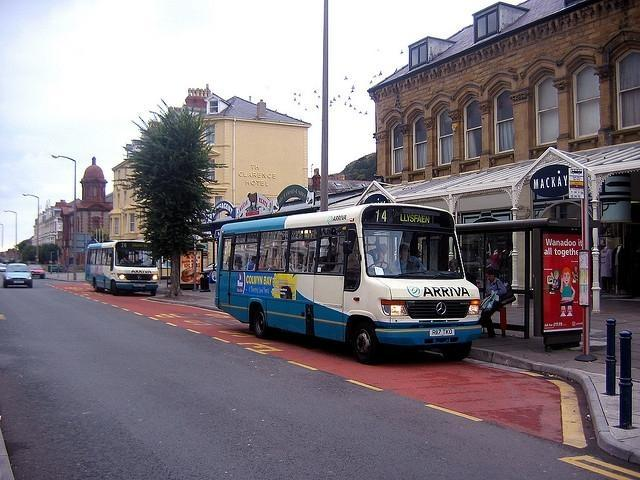bus: (217, 204, 487, 359), (84, 241, 163, 298)
car: (2, 262, 34, 289), (27, 265, 46, 278), (204, 263, 217, 282), (0, 264, 7, 271)
